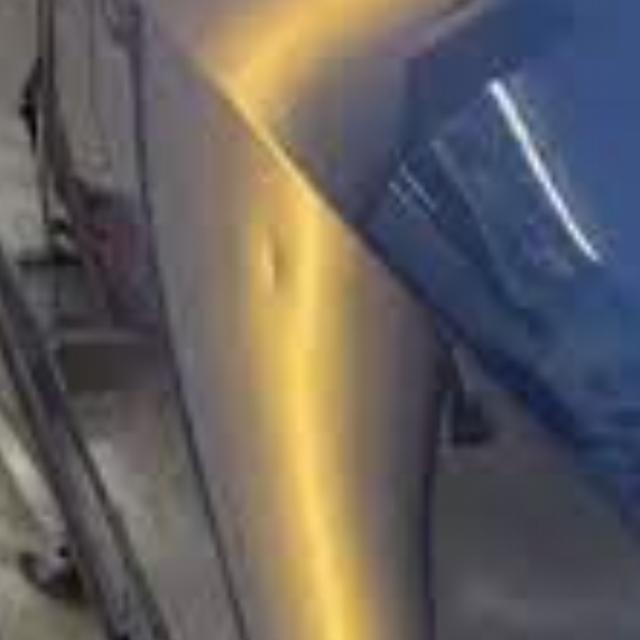dents: (251, 222, 293, 320)
